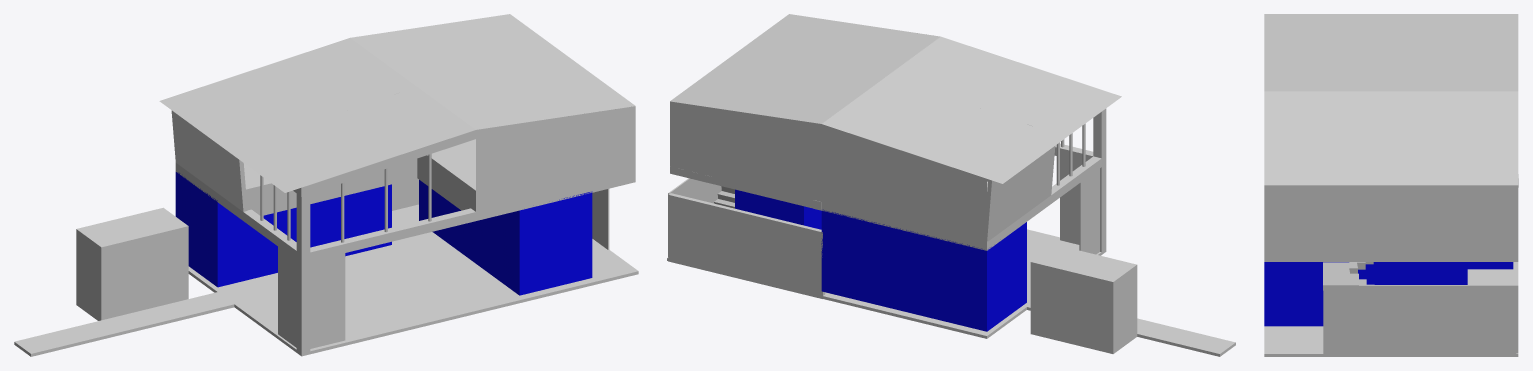
Rendered from house.glb.
The picture shows the model from 3 angles, left to right: view 1: azimuth 30°, elevation 25°; view 2: azimuth 150°, elevation 25°; view 3: azimuth 270°, elevation 25°; orthographic projection. The views are drawn at different scales.
Parts seen in each view (by area): view 1: Brep.049, Brep.008, Brep.040, Brep.041, Extrusion.013, Brep.055, Brep.054, Extrusion.021, Extrusion.020, Extrusion, Brep.050, Extrusion.005 (+13 smaller); view 2: Brep.054, Brep.049, Brep.045, Brep.046, Brep.041, Extrusion.001, Extrusion.013, Extrusion.021, Extrusion.020, Extrusion.005, Brep.008, Brep.050 (+12 smaller); view 3: Brep.049, Brep.009, Extrusion.022, Brep.041, Extrusion.013, Brep.055, Brep.050, Brep.008, Extrusion.011, Extrusion.012, Extrusion.005, Brep.054 (+3 smaller).
Boxes of the visible parts, left/top/right/bottom form: Brep.049: left=350, top=14, right=635, bottom=129; Brep.008: left=188, top=204, right=638, bottom=356; Brep.040: left=476, top=106, right=635, bottom=220; Brep.041: left=176, top=38, right=416, bottom=144; Extrusion.013: left=243, top=87, right=475, bottom=187; Brep.055: left=419, top=180, right=592, bottom=295; Brep.054: left=175, top=172, right=391, bottom=287; Extrusion.021: left=76, top=218, right=144, bottom=320; Extrusion.020: left=120, top=207, right=188, bottom=309; Extrusion: left=14, top=292, right=234, bottom=356; Brep.050: left=244, top=87, right=475, bottom=196; Extrusion.005: left=171, top=96, right=247, bottom=211; Brep.054: left=821, top=209, right=1026, bottom=331; Brep.049: left=670, top=14, right=940, bottom=123; Brep.045: left=821, top=124, right=986, bottom=249; Brep.046: left=670, top=101, right=821, bottom=208; Brep.041: left=822, top=77, right=1050, bottom=178; Extrusion.001: left=668, top=193, right=825, bottom=298; Extrusion.013: left=885, top=36, right=1106, bottom=131; Extrusion.021: left=1072, top=254, right=1137, bottom=353; Extrusion.020: left=1030, top=244, right=1095, bottom=343; Extrusion.005: left=983, top=132, right=1055, bottom=241; Brep.008: left=667, top=229, right=1106, bottom=338; Brep.050: left=886, top=37, right=1104, bottom=131; Brep.049: left=1264, top=91, right=1518, bottom=185; Brep.009: left=1264, top=185, right=1518, bottom=261; Extrusion.022: left=1323, top=285, right=1516, bottom=354; Brep.041: left=1383, top=20, right=1518, bottom=91; Extrusion.013: left=1264, top=20, right=1382, bottom=91; Brep.055: left=1264, top=262, right=1467, bottom=326; Brep.050: left=1264, top=20, right=1382, bottom=91; Brep.008: left=1264, top=269, right=1518, bottom=356; Extrusion.011: left=1264, top=14, right=1382, bottom=20; Extrusion.012: left=1383, top=14, right=1518, bottom=20; Extrusion.005: left=1383, top=18, right=1518, bottom=20; Brep.054: left=1467, top=262, right=1513, bottom=269.
Size of the model in its own units: 18.6 by 6.06 by 7.51.
